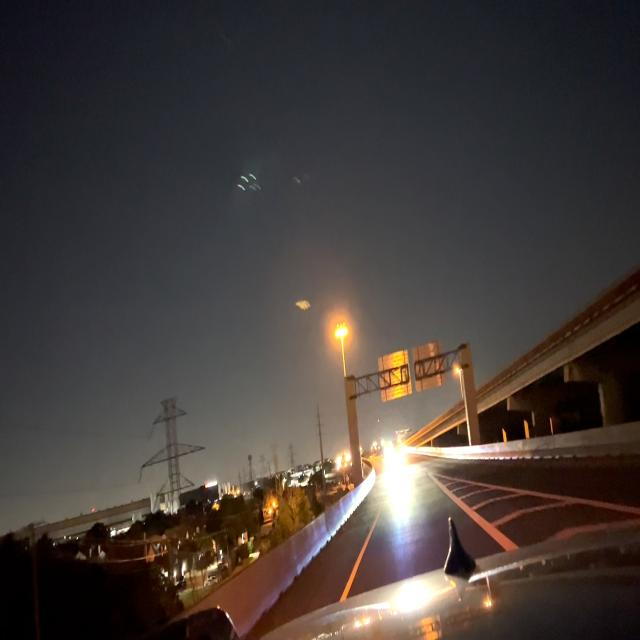back-of-sign: (379, 345, 413, 411), (414, 340, 446, 396)
